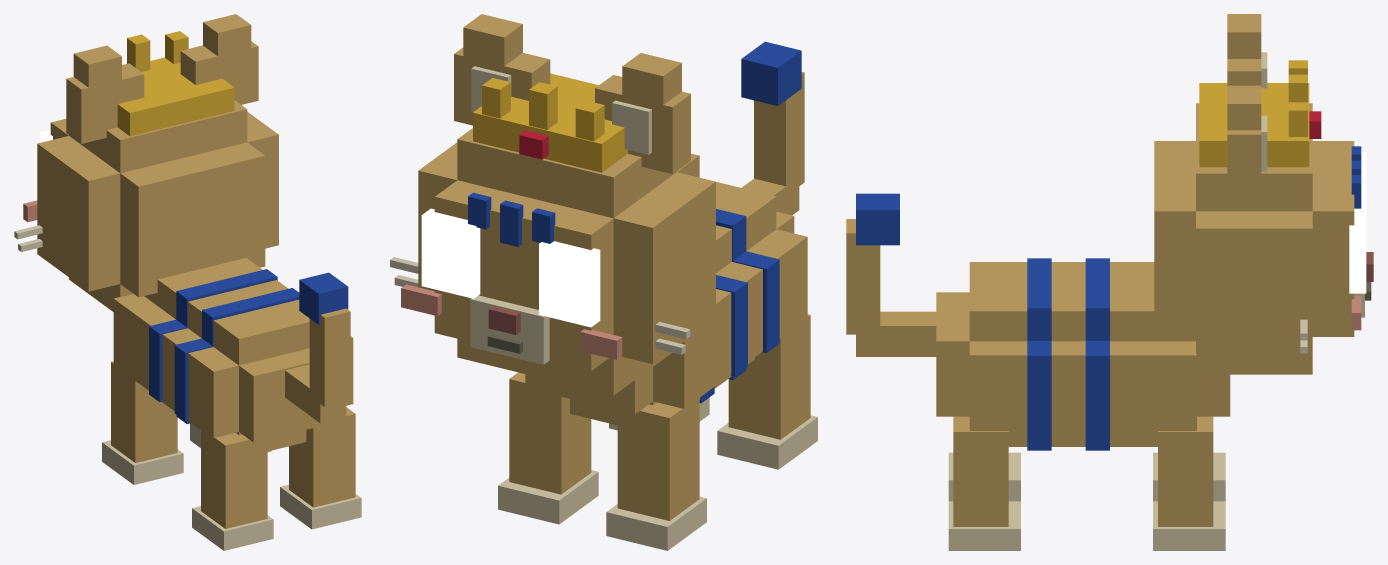
File: SphinxCat.glb
The picture shows the model from 3 angles, left to right: view 1: azimuth 30°, elevation 25°; view 2: azimuth 150°, elevation 25°; view 3: azimuth 270°, elevation 25°; orthographic projection. The views are drawn at different scales.
Visible parts, largest first — view 1: Voxel; view 2: Voxel; view 3: Voxel.
Part boxes in pixels (x1=…): Voxel: x1=14, y1=14, x2=361, y2=550; Voxel: x1=390, y1=14, x2=817, y2=550; Voxel: x1=846, y1=14, x2=1373, y2=550.
Size of the model in its own units: 2.59 by 4.12 by 4.34.
